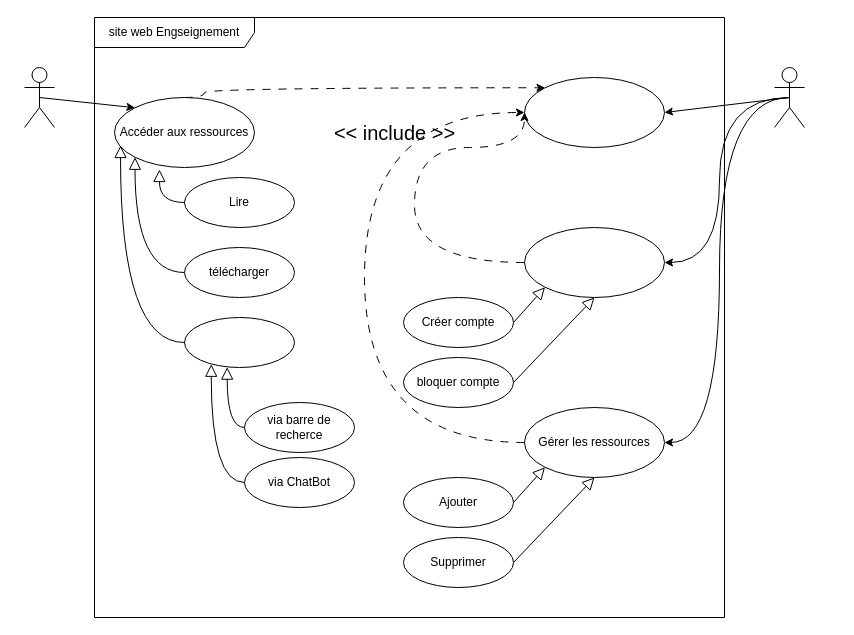
Image size: 854x635. Some labels were removed from this diagram. Each missing label, with the centre of its shape:
Gérer les comptes: [594,262]
Membre: [39,97]
Professeur/Admin: [789,97]
Rechercher: [239,342]
Se connecter: [594,112]
